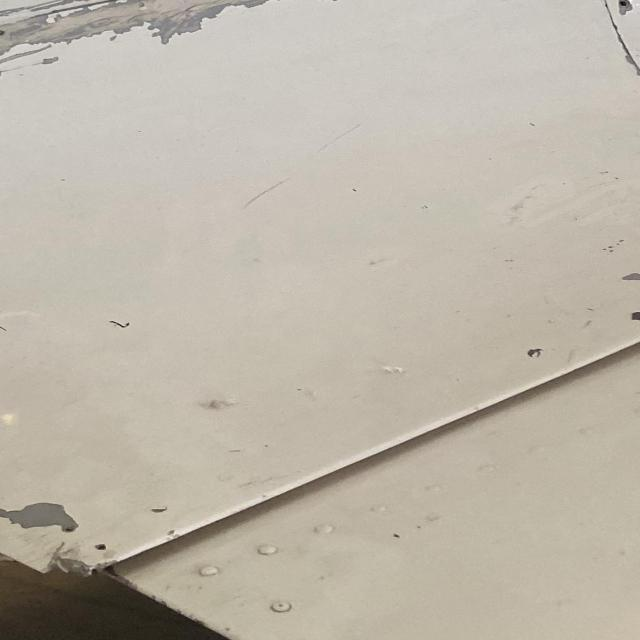Fastener Damage: (620, 0, 628, 10)
